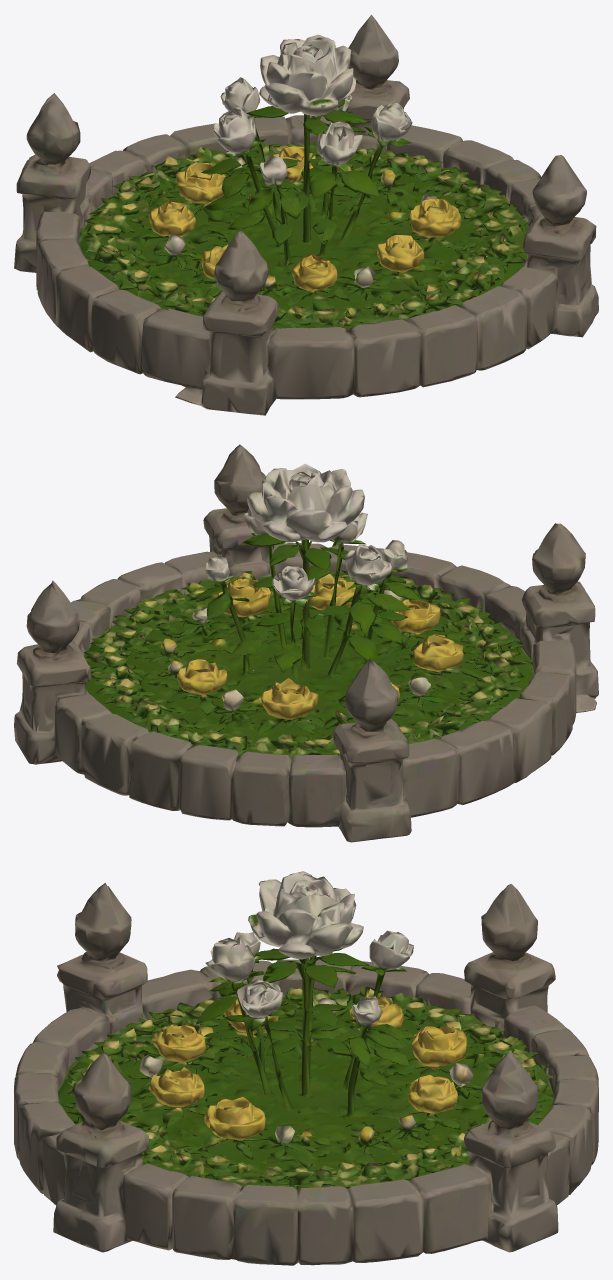
Rendered from flower_bed_round.glb.
3 renders of one model, top to bottom at view 1: azimuth 30°, elevation 25°; view 2: azimuth 150°, elevation 25°; view 3: azimuth 270°, elevation 25°, orthographic. The views are drawn at different scales.
Visible parts, largest first — view 1: tripo_node_1523cf4e-816d-44da-9db4-2b00bd25688d; view 2: tripo_node_1523cf4e-816d-44da-9db4-2b00bd25688d; view 3: tripo_node_1523cf4e-816d-44da-9db4-2b00bd25688d.
Boxes of the visible parts, left/top/right/bottom form: tripo_node_1523cf4e-816d-44da-9db4-2b00bd25688d: left=14, top=14, right=598, bottom=415; tripo_node_1523cf4e-816d-44da-9db4-2b00bd25688d: left=14, top=444, right=598, bottom=842; tripo_node_1523cf4e-816d-44da-9db4-2b00bd25688d: left=14, top=871, right=598, bottom=1265.
Bounding box in the file's own units: 0.9802 × 0.5066 × 0.979.
Materials: 1 (1 with a texture image).
